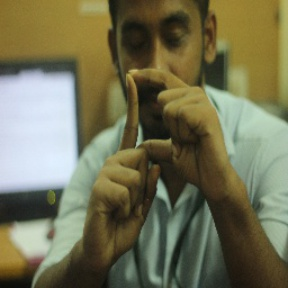D: (107, 61, 208, 189)
